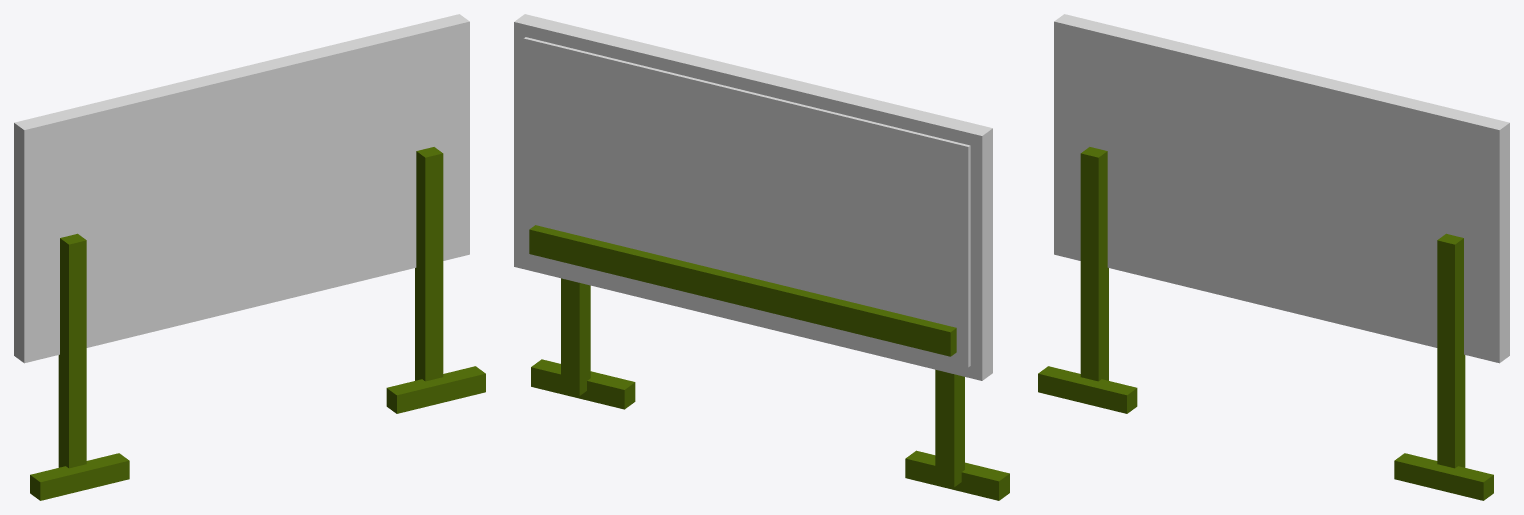
Rendered from Papan.glb.
3 views of the same model, side by side, from view 1: azimuth 30°, elevation 25°; view 2: azimuth 150°, elevation 25°; view 3: azimuth 330°, elevation 25° (orthographic). The views are drawn at different scales.
Parts seen in each view (by area): view 1: Frame_Aluminium, Kaki_Kanan, Kaki_Kiri, Cube, Cube.001; view 2: Permukaan_Whiteboard, Frame_Aluminium, Tray_Spidol, Kaki_Kiri, Kaki_Kanan, Cube, Cube.001; view 3: Frame_Aluminium, Kaki_Kiri, Kaki_Kanan, Cube.001, Cube.
Boxes of the visible parts, x1,y1,x2,y2 form: Frame_Aluminium: [14, 14, 469, 363]; Kaki_Kanan: [415, 147, 443, 381]; Kaki_Kiri: [58, 233, 86, 468]; Cube: [30, 453, 129, 500]; Cube.001: [386, 366, 485, 413]; Permukaan_Whiteboard: [523, 37, 970, 367]; Frame_Aluminium: [514, 14, 992, 380]; Tray_Spidol: [529, 225, 956, 356]; Kaki_Kiri: [935, 369, 964, 487]; Kaki_Kanan: [561, 278, 590, 395]; Cube: [905, 450, 1009, 500]; Cube.001: [531, 359, 635, 409]; Frame_Aluminium: [1054, 14, 1509, 363]; Kaki_Kiri: [1080, 147, 1108, 381]; Kaki_Kanan: [1437, 233, 1465, 468]; Cube.001: [1394, 453, 1493, 500]; Cube: [1038, 366, 1137, 413].
Size of the model in its own units: 4 by 3.08 by 0.53.
